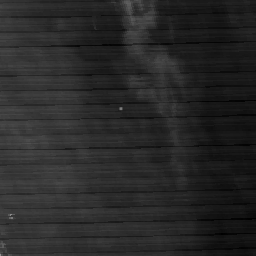Target: (117, 104, 125, 111)
